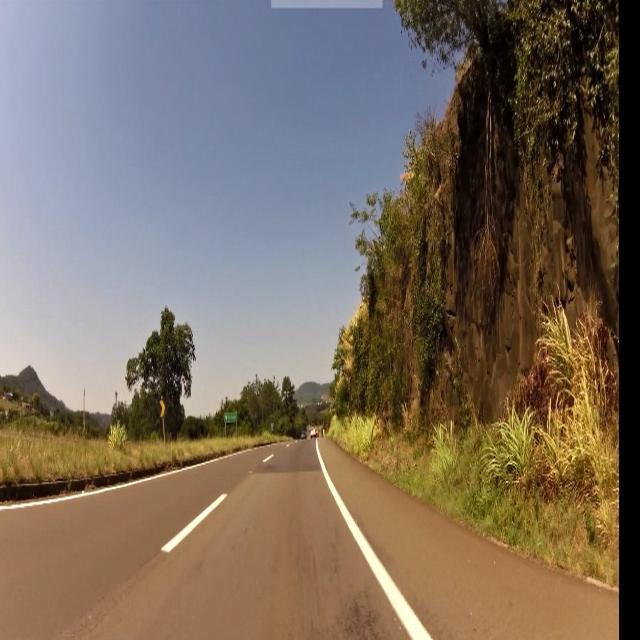Del: (159, 399, 166, 415)
